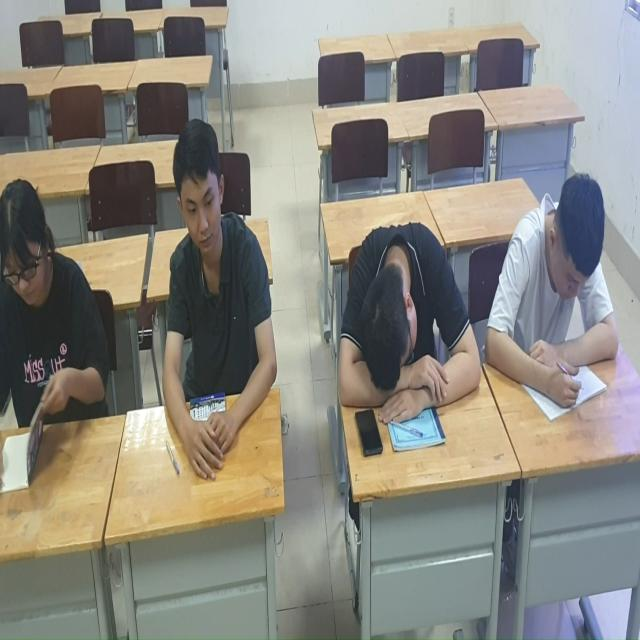read: (147, 108, 288, 501), (484, 165, 623, 429), (1, 186, 115, 485)
sleep: (334, 215, 485, 450)
